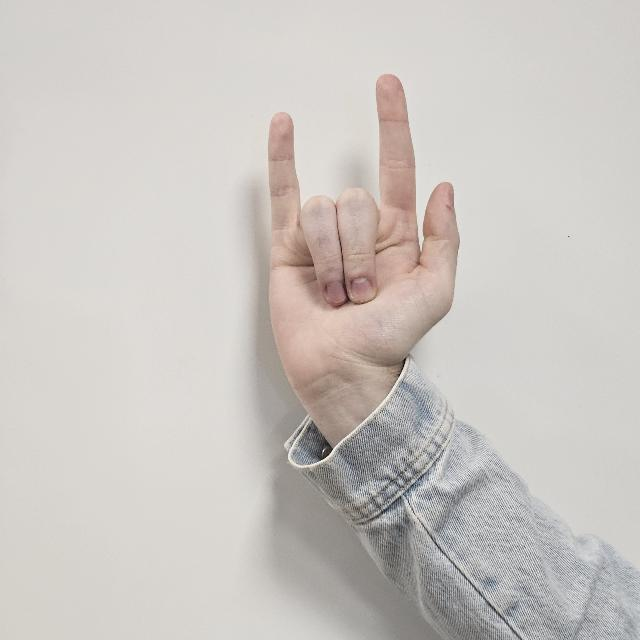L: (254, 76, 488, 386)
